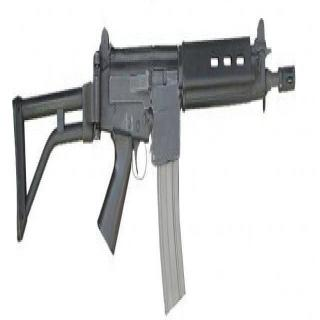gun: (8, 24, 304, 311)
